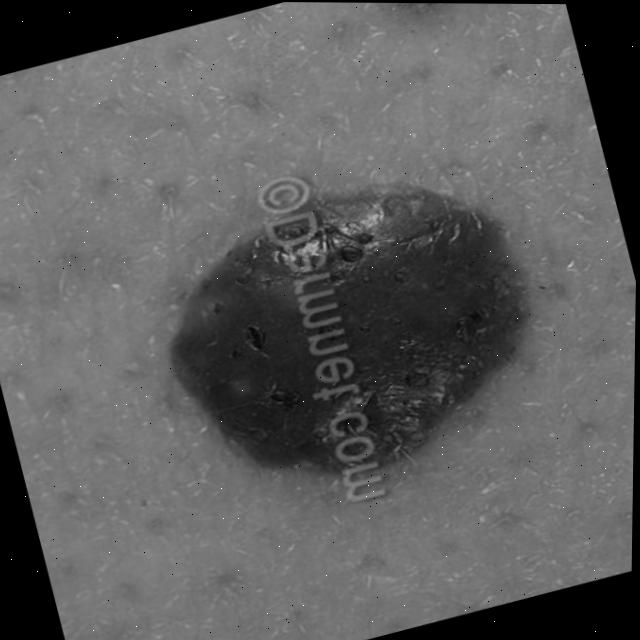Eczema: (179, 180, 533, 467)
